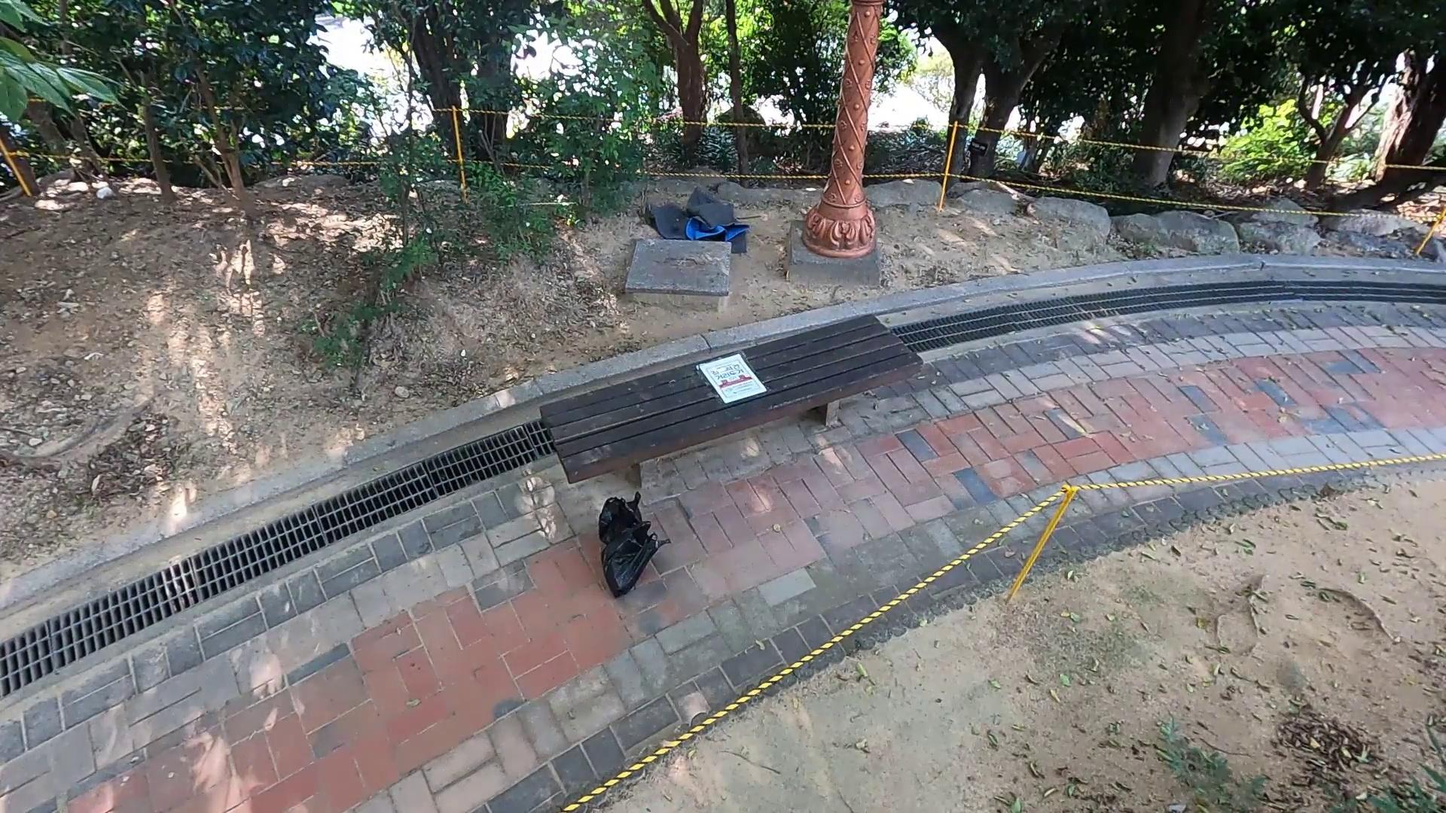trash: (597, 522, 672, 597), (590, 490, 658, 550)
